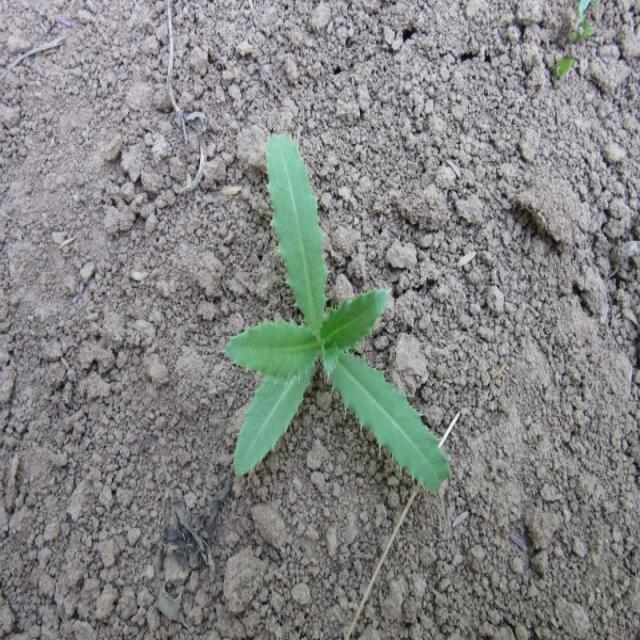field_thistle: (214, 100, 447, 521)
